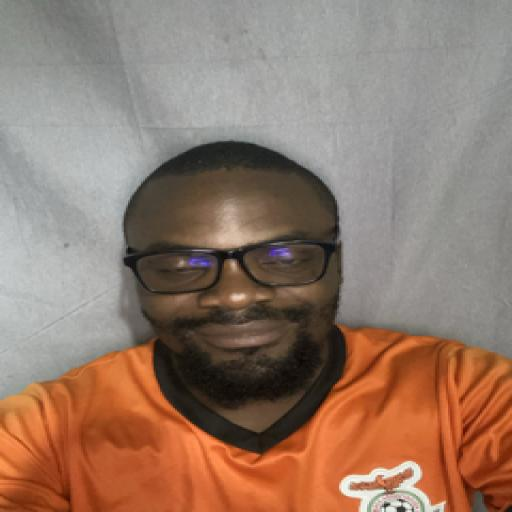JEANLUC: (120, 152, 348, 402)
